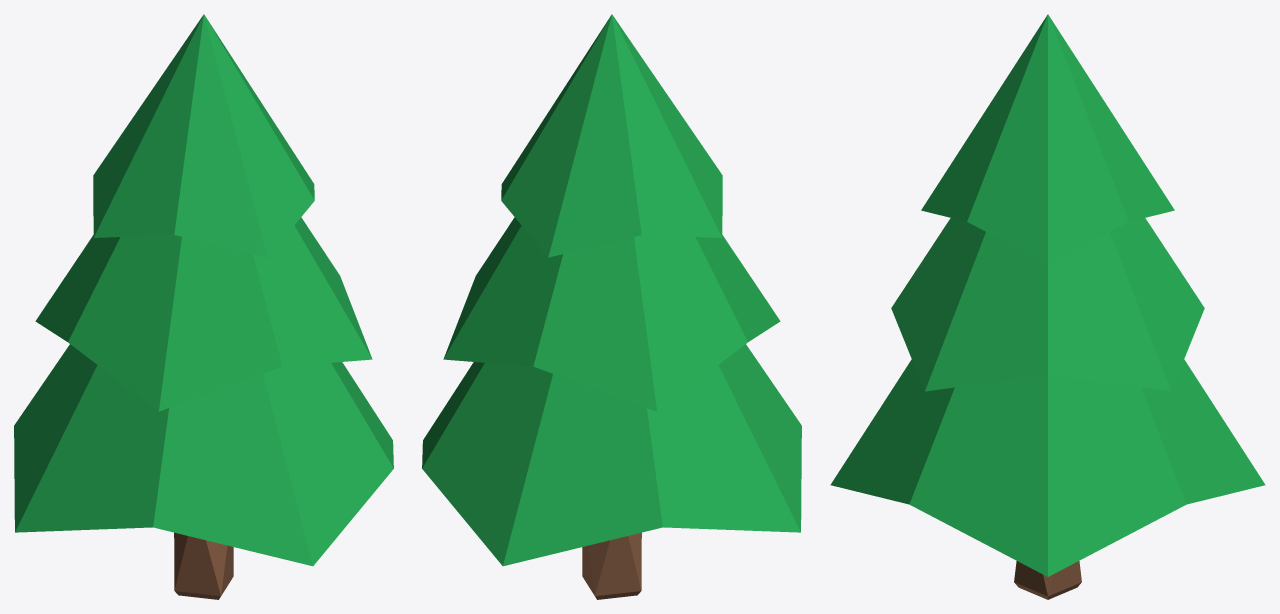
Rendered from spruce_tree.glb.
The picture shows the model from 3 angles, left to right: view 1: azimuth 30°, elevation 25°; view 2: azimuth 150°, elevation 25°; view 3: azimuth 270°, elevation 25°; orthographic projection.
Parts seen in each view (by area): view 1: Circle, Cube; view 2: Circle, Cube; view 3: Circle, Cube.
Part boxes in pixels (bbox=[...]): Circle: bbox=[14, 14, 393, 566]; Cube: bbox=[174, 532, 233, 599]; Circle: bbox=[422, 14, 801, 566]; Cube: bbox=[582, 532, 641, 599]; Circle: bbox=[830, 14, 1265, 576]; Cube: bbox=[1014, 561, 1081, 599].
Size of the model in its own units: 4.53 by 6.59 by 4.53.
